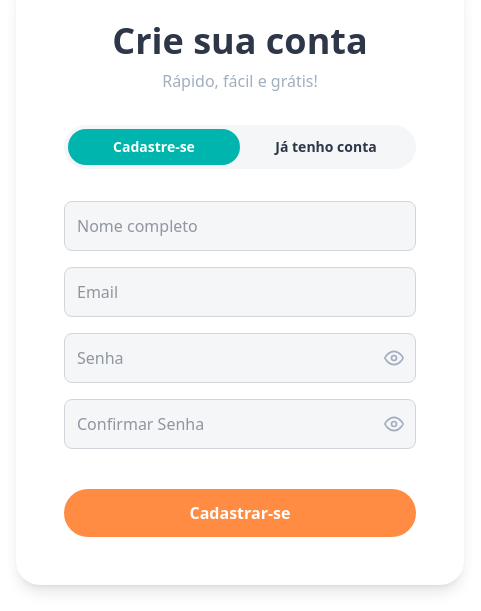
LoginPage › troca para aba de login ao clicar
Click the button "Já tenho conta".
click(326, 147)  # box [240, 129, 412, 165]
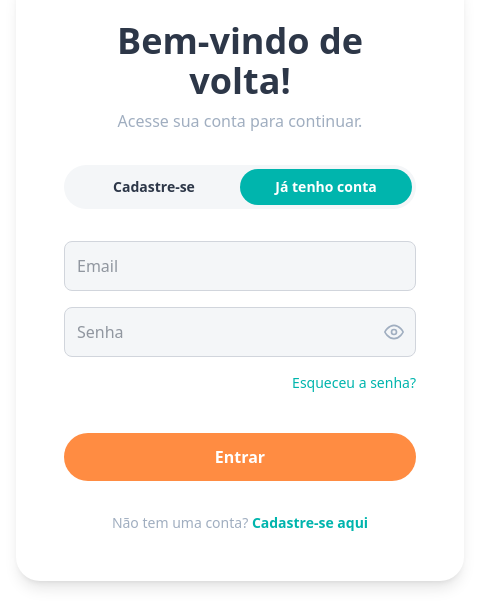
Now the heading "Bem-vindo de volta!" is shown, box [117, 16, 363, 105]
